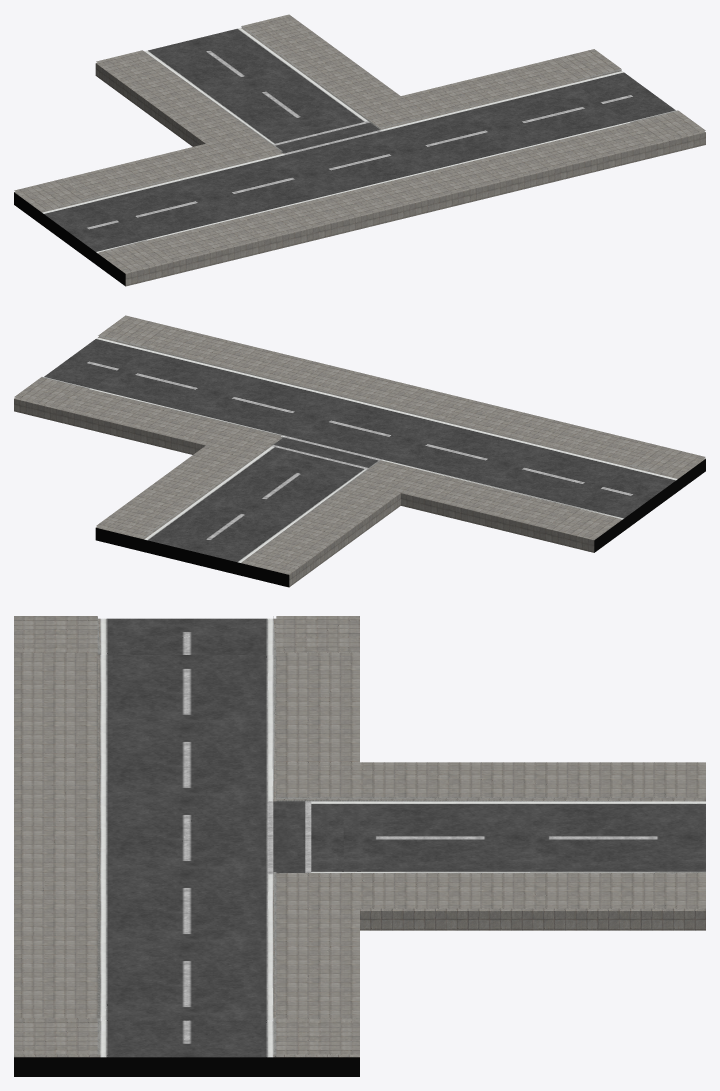
File: SingleT_3.fbx
The picture shows the model from 3 angles, top to bottom: view 1: azimuth 30°, elevation 25°; view 2: azimuth 150°, elevation 25°; view 3: azimuth 270°, elevation 25°; orthographic projection. The views are drawn at different scales.
Parts seen in each view (by area): view 1: materialG150, materialA150, materialB150, materialC150, materialE150, materialD150; view 2: materialG150, materialA150, materialB150, materialC150, materialE150, materialF150, materialD150; view 3: materialA150, materialG150, materialB150, materialE150, materialC150, materialF150, materialD150.
Part boxes in pixels (bbox=[...]): materialG150: bbox=[14, 14, 705, 286]; materialA150: bbox=[42, 28, 675, 253]; materialB150: bbox=[14, 192, 125, 286]; materialC150: bbox=[275, 122, 379, 153]; materialE150: bbox=[49, 26, 678, 250]; materialD150: bbox=[273, 121, 381, 154]; materialG150: bbox=[14, 315, 705, 586]; materialA150: bbox=[44, 337, 677, 562]; materialB150: bbox=[95, 459, 705, 587]; materialC150: bbox=[273, 437, 378, 467]; materialE150: bbox=[41, 335, 673, 552]; materialF150: bbox=[105, 338, 669, 524]; materialD150: bbox=[272, 436, 381, 469]; materialA150: bbox=[100, 618, 705, 1057]; materialG150: bbox=[14, 616, 705, 1057]; materialB150: bbox=[14, 1057, 359, 1076]; materialE150: bbox=[97, 616, 705, 1054]; materialC150: bbox=[273, 801, 305, 873]; materialF150: bbox=[97, 652, 629, 1057]; materialD150: bbox=[267, 801, 311, 874].
Bounding box in the file's own units: 76.8 × 1.8 × 51.2.
